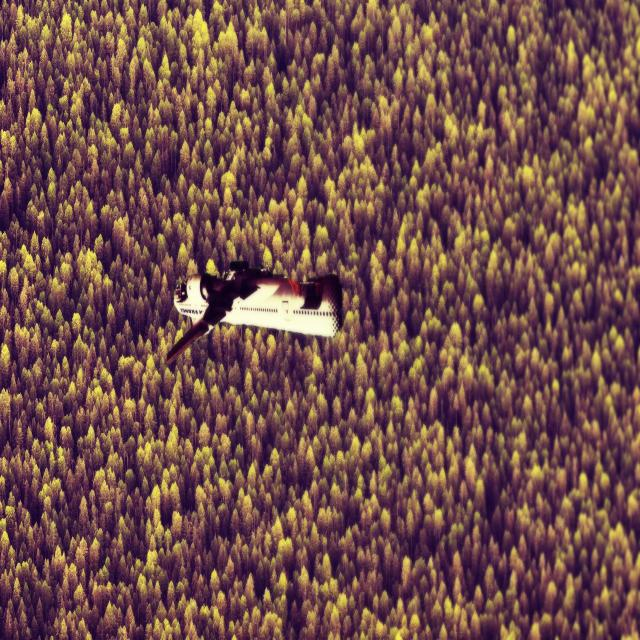airplane: (165, 258, 342, 366)
